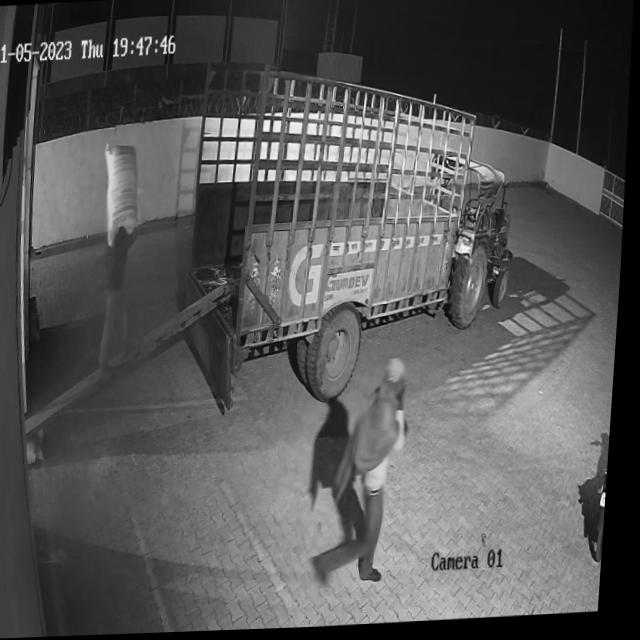sack: (102, 144, 146, 247)
